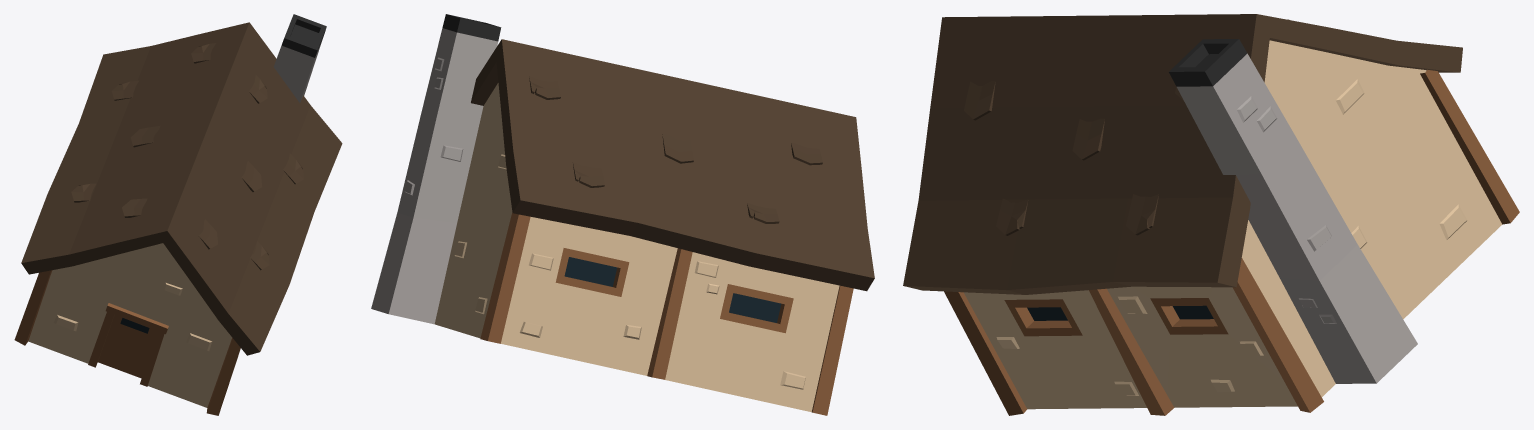
File: house-medieval-small.glb
3 views of the same model, side by side, from view 1: azimuth 30°, elevation 25°; view 2: azimuth 150°, elevation 25°; view 3: azimuth 270°, elevation 25° (orthographic). The views are drawn at different scales.
Parts seen in each view (by area): view 1: Object_3921; view 2: Object_3921; view 3: Object_3921.
Part boxes in pixels (x1,y1,x2,y2): Object_3921: [14, 14, 342, 415]; Object_3921: [371, 14, 874, 415]; Object_3921: [903, 14, 1519, 415].
Size of the model in its own units: 8.35 by 7.25 by 8.26.
1 material, 1 textured.
